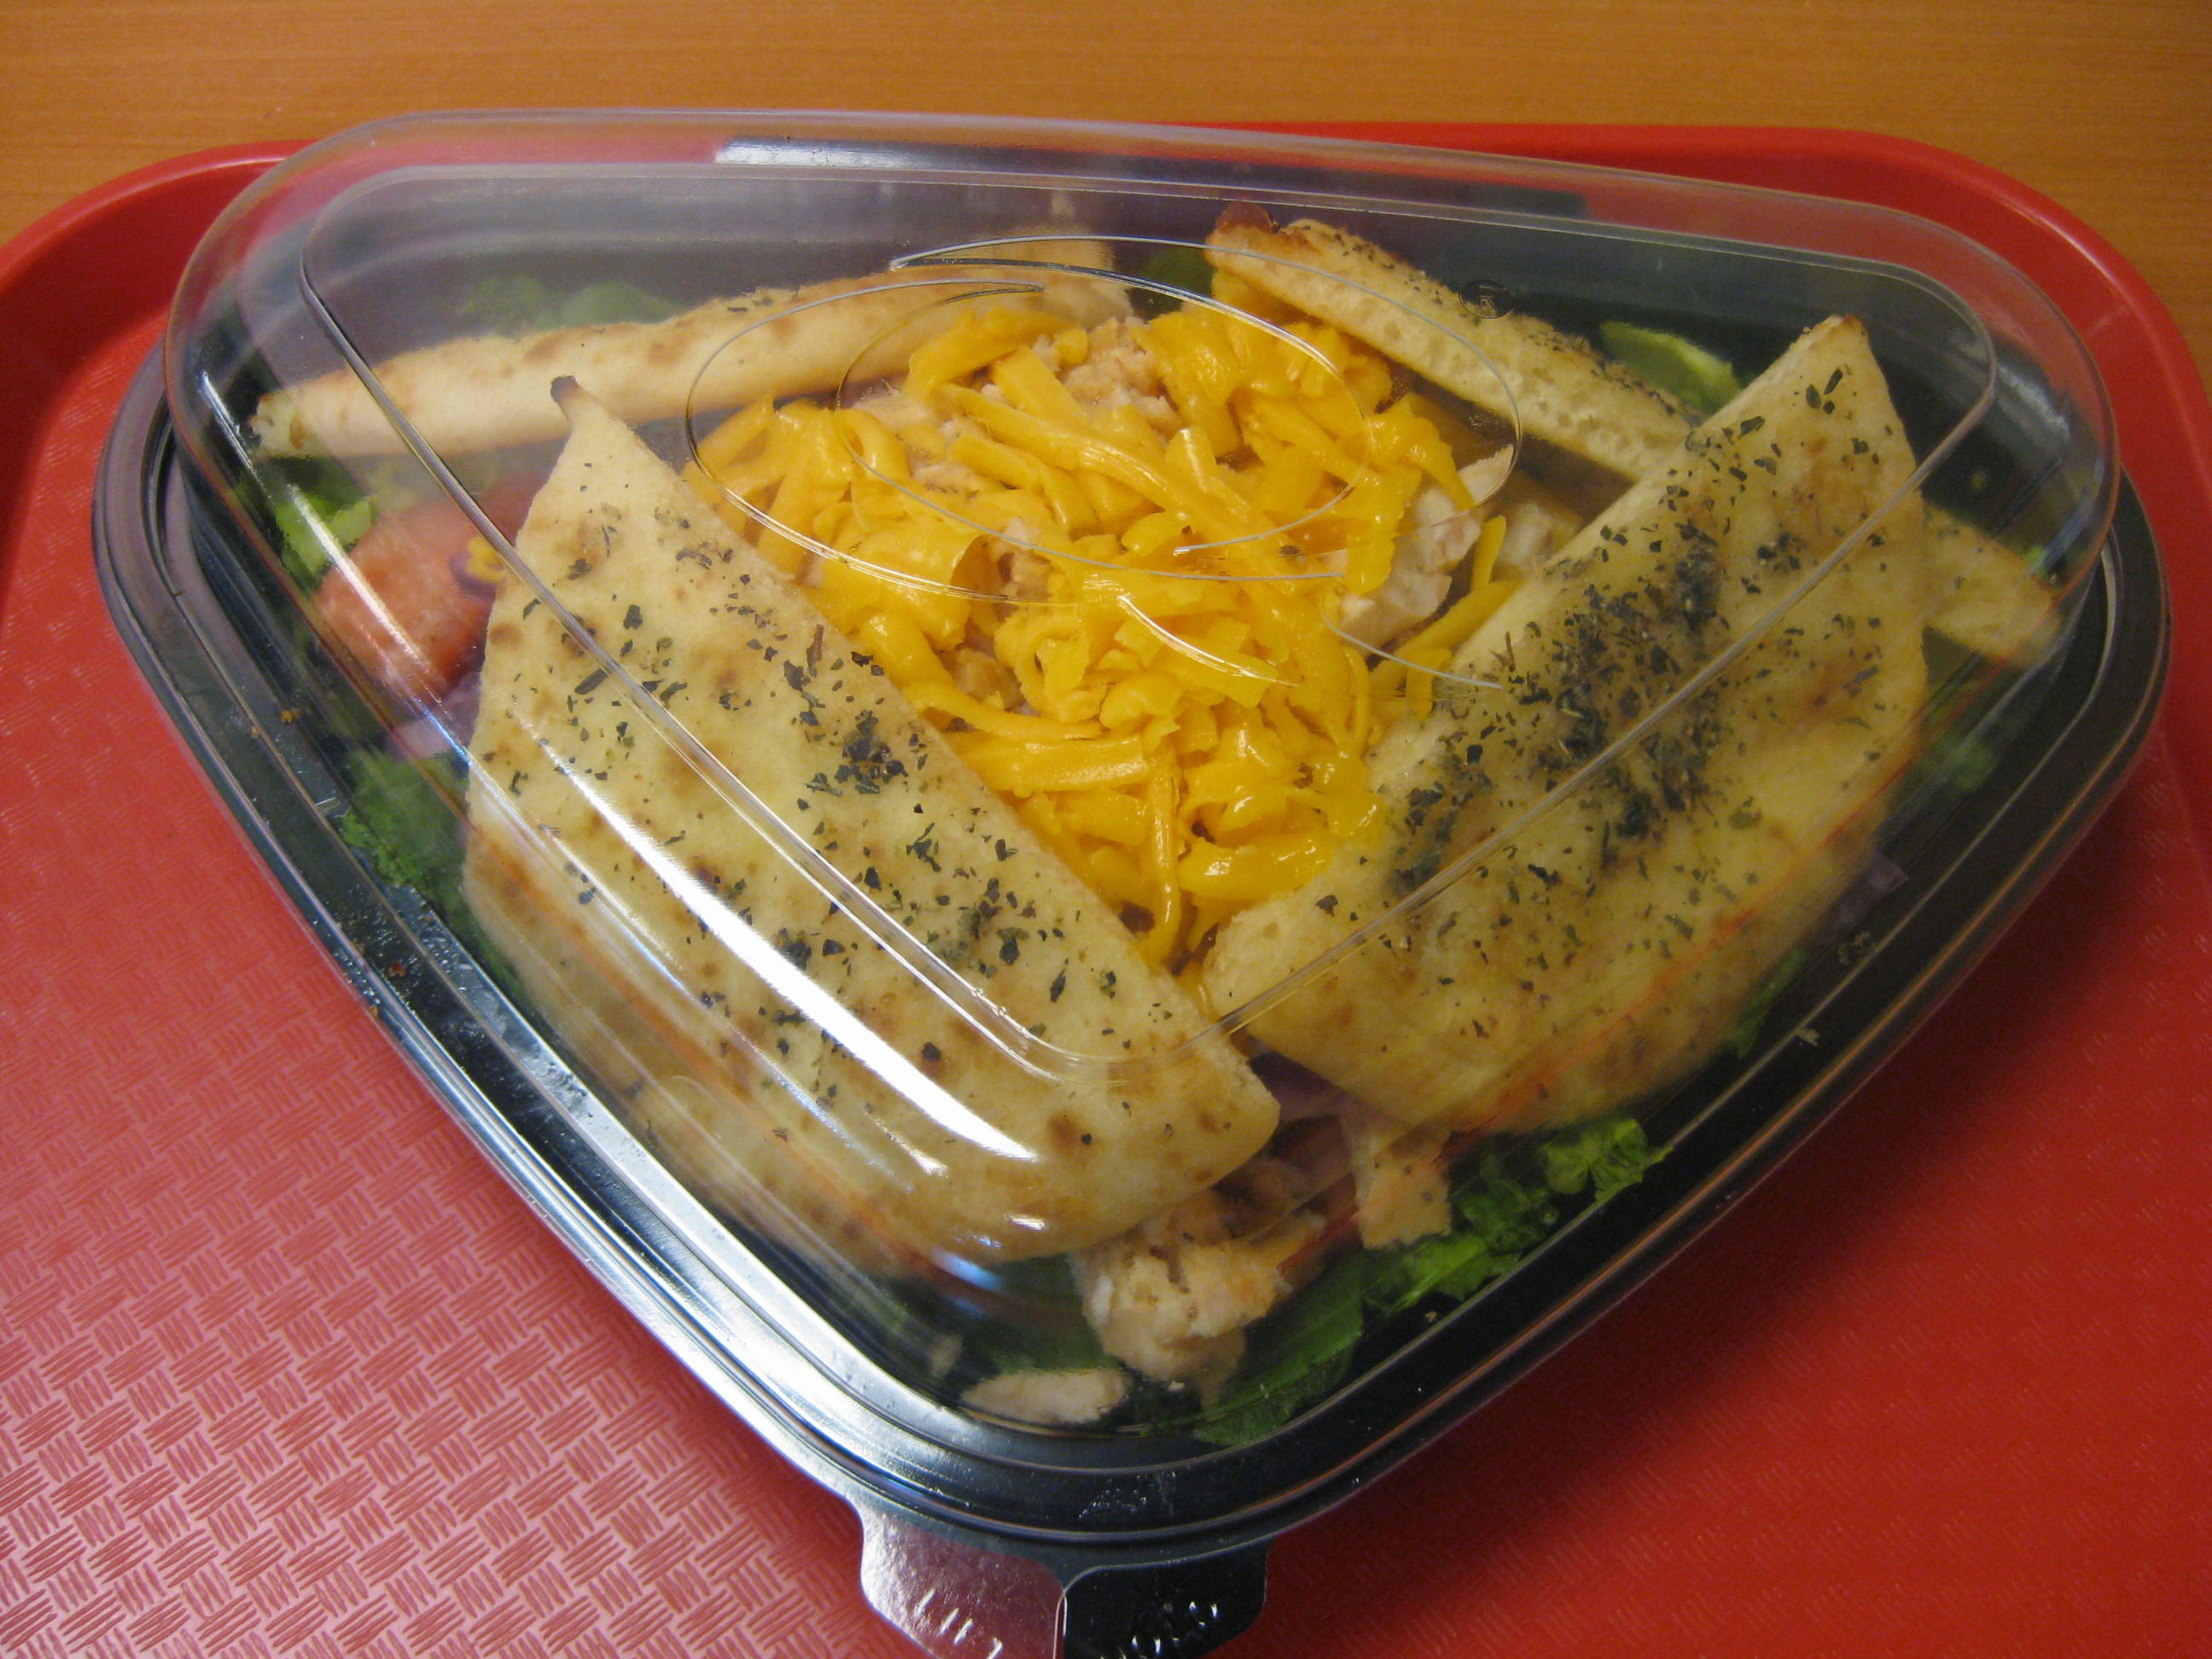salad: (212, 137, 2133, 1453)
